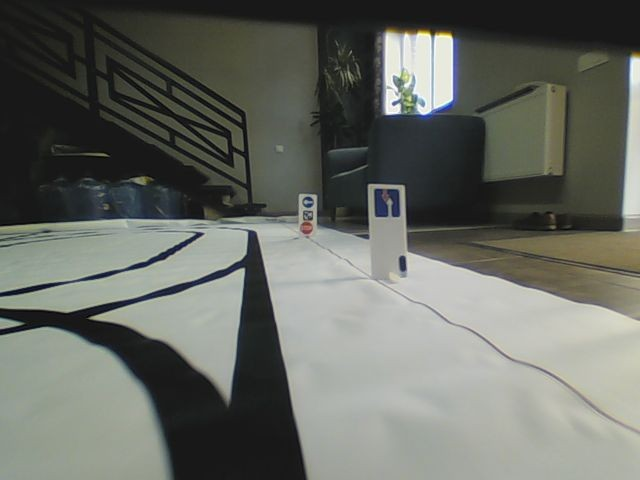priority_movement: (373, 187, 402, 220)
